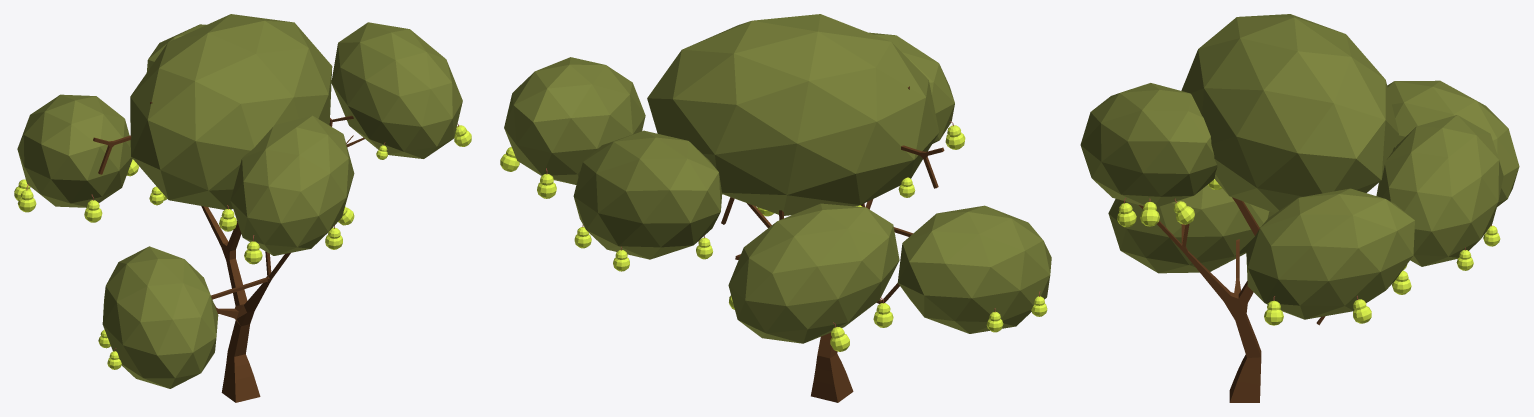
The model's file is tree12.fbx.
3 views of the same model, side by side, from view 1: azimuth 30°, elevation 25°; view 2: azimuth 150°, elevation 25°; view 3: azimuth 270°, elevation 25° (orthographic). The views are drawn at different scales.
Parts seen in each view (by area): view 1: Sphere.020; view 2: Sphere.020; view 3: Sphere.020.
Part boxes in pixels (<box>): Sphere.020: <box>14,14,471,402</box>; Sphere.020: <box>500,14,1051,402</box>; Sphere.020: <box>1080,14,1519,402</box>.
Size of the model in its own units: 3.13 by 2.54 by 2.71.
